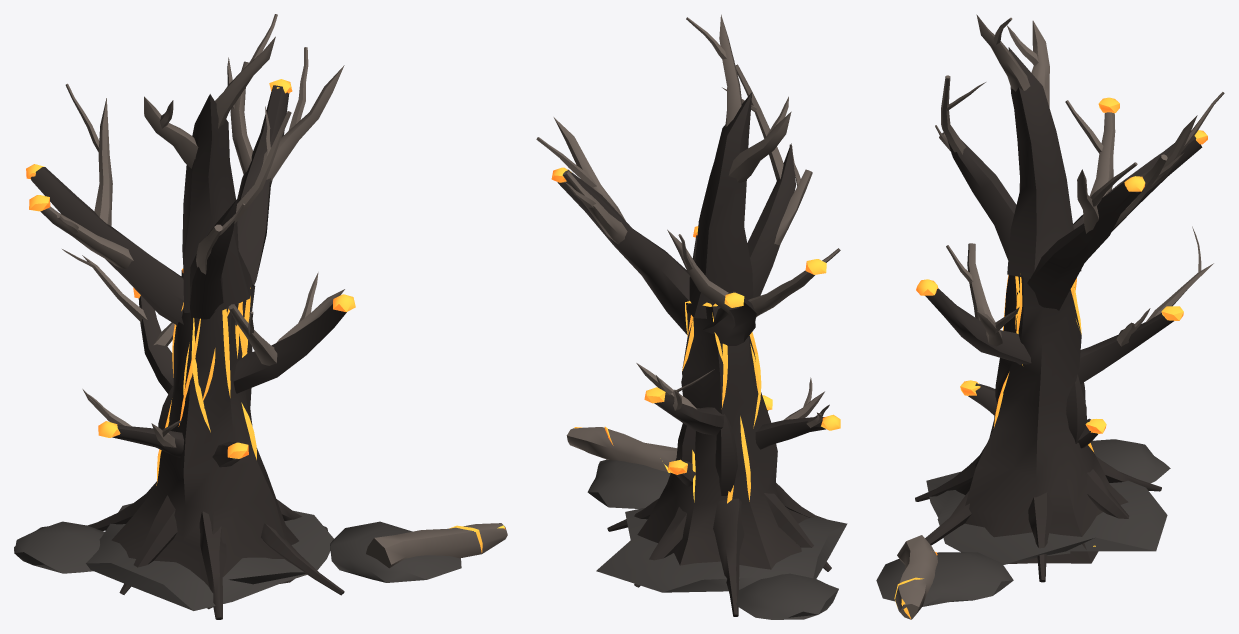
Rendered from tree_charred_a.glb.
The picture shows the model from 3 angles, left to right: view 1: azimuth 30°, elevation 25°; view 2: azimuth 150°, elevation 25°; view 3: azimuth 270°, elevation 25°; orthographic projection. The views are drawn at different scales.
Visible parts, largest first — view 1: tree_charred_a; view 2: tree_charred_a; view 3: tree_charred_a.
Boxes of the visible parts, x1=… form: tree_charred_a: x1=14, y1=14, x2=507, y2=619; tree_charred_a: x1=536, y1=14, x2=847, y2=619; tree_charred_a: x1=876, y1=14, x2=1224, y2=619.
Size of the model in its own units: 4.48 by 6.22 by 3.68.
